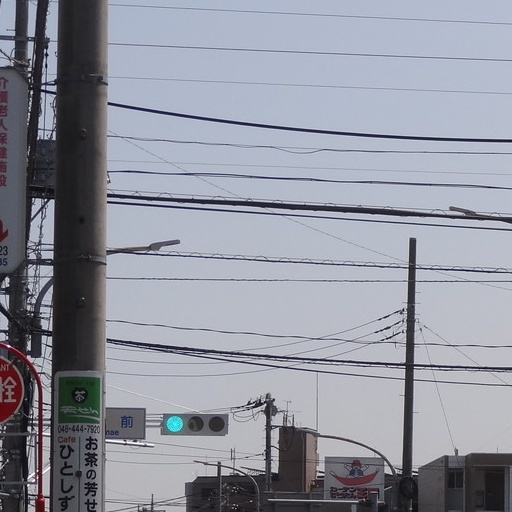Traffic_Signal_Blue: (157, 405, 234, 443)
